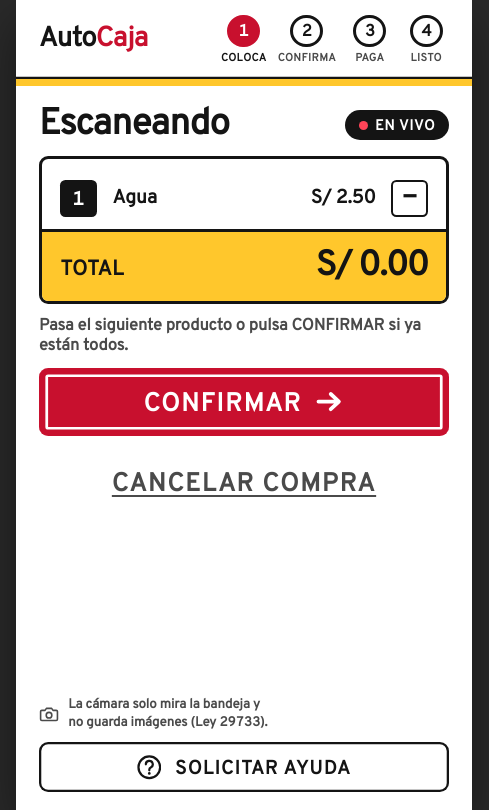
errores visibles › W2 muestra el error de CONFIRMAR
What coordinates should you click on to do the following:
click the button "CONFIRMAR"
I would click on:
 (244, 402)
Its box is [39,368,449,436].
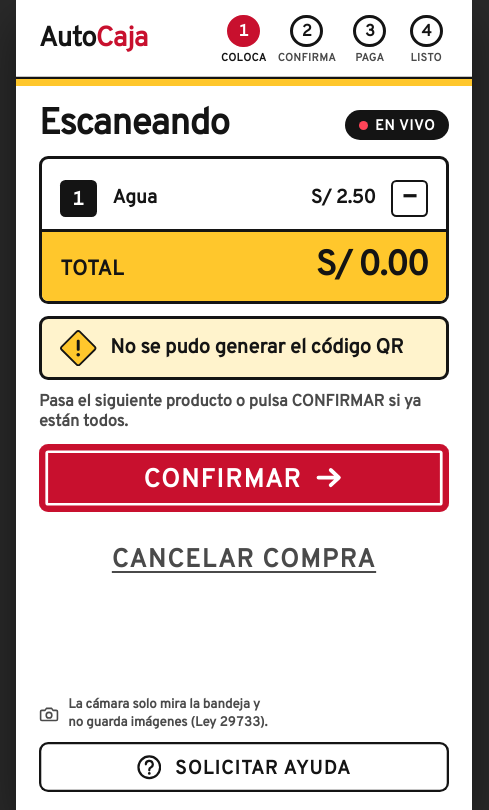
Check: the message reads "No se pudo generar el código QR", box [110,335,404,361]
